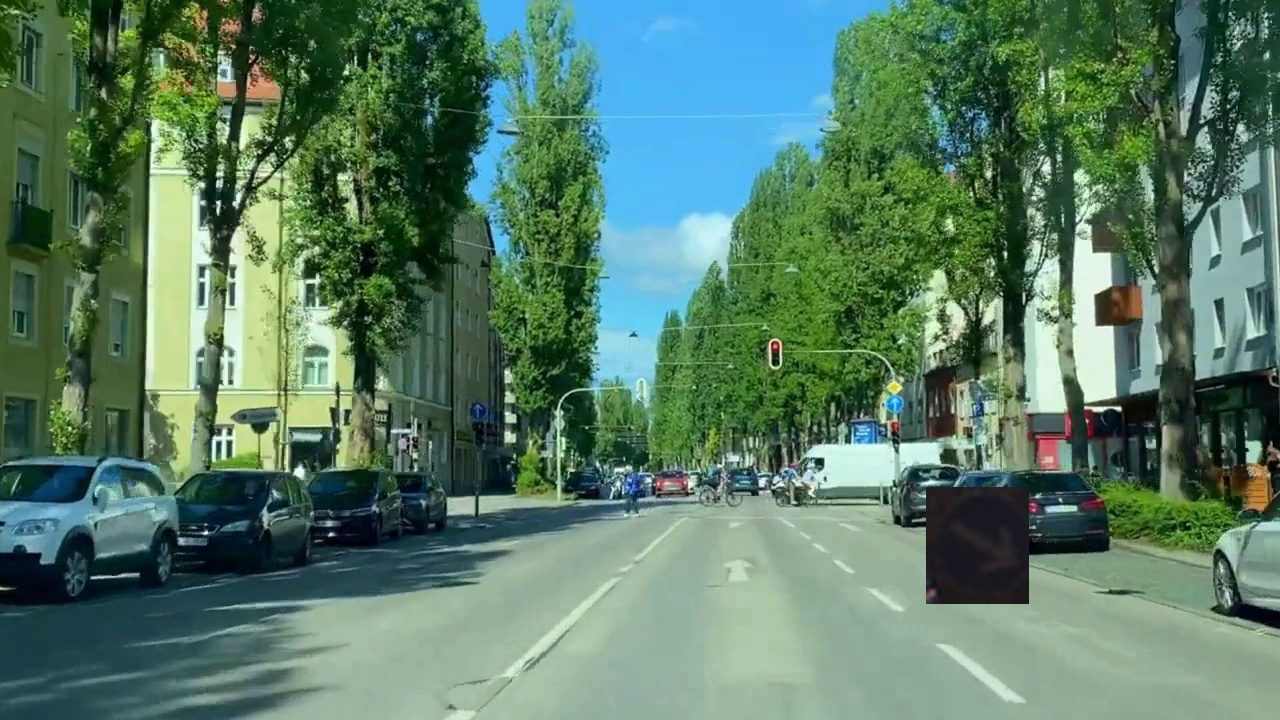Keep right: (926, 487, 1029, 604)
